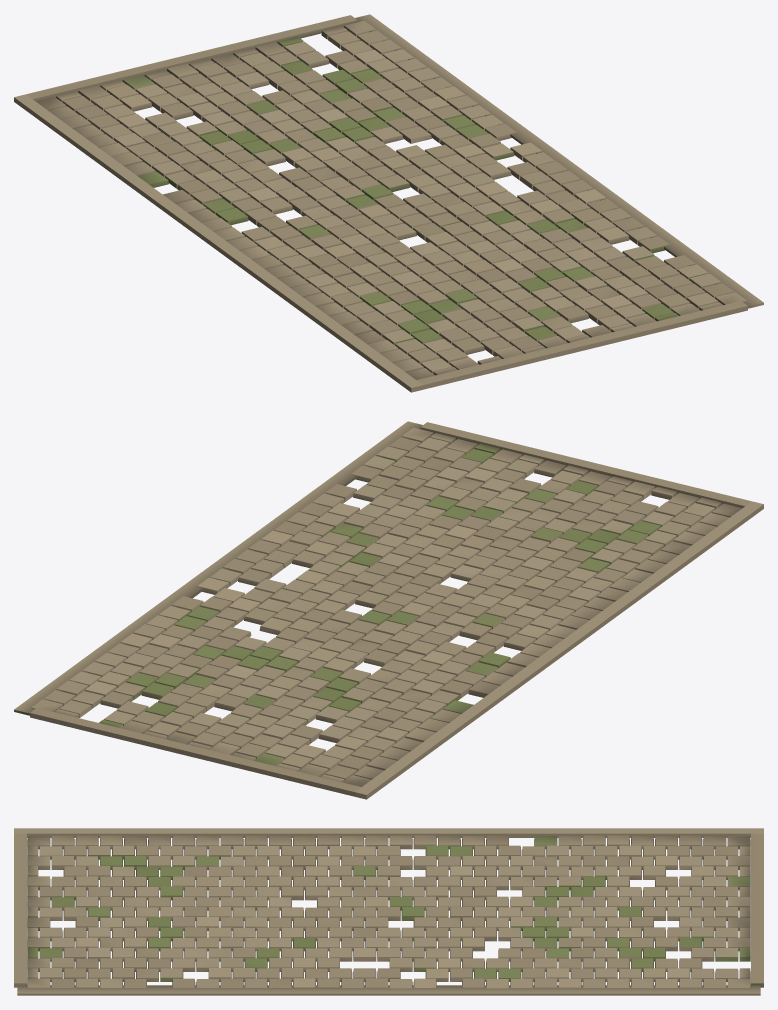
The model's file is HallFloor.glb.
3 views of the same model, one above another, from view 1: azimuth 30°, elevation 25°; view 2: azimuth 150°, elevation 25°; view 3: azimuth 270°, elevation 25° (orthographic). The views are drawn at different scales.
Visible parts, largest first — view 1: Floor; view 2: Floor; view 3: Floor.
Part boxes in pixels (<box>): Floor: <box>14,14,763,392</box>; Floor: <box>14,421,763,799</box>; Floor: <box>14,828,763,995</box>.
Bounding box in the file's own units: 48 × 0.8 × 93.2.
